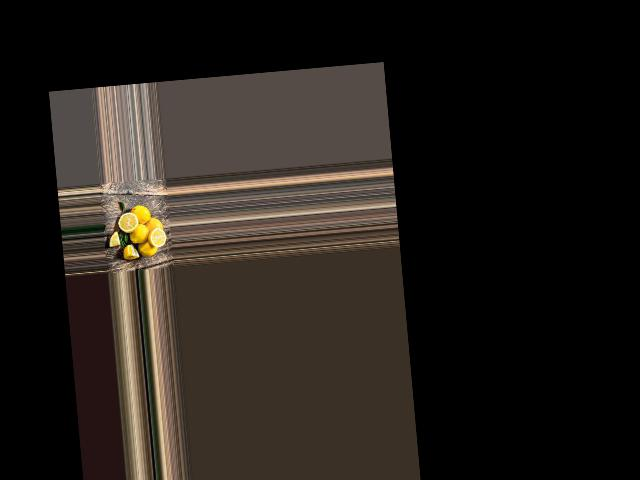lemon: (135, 238, 156, 258)
